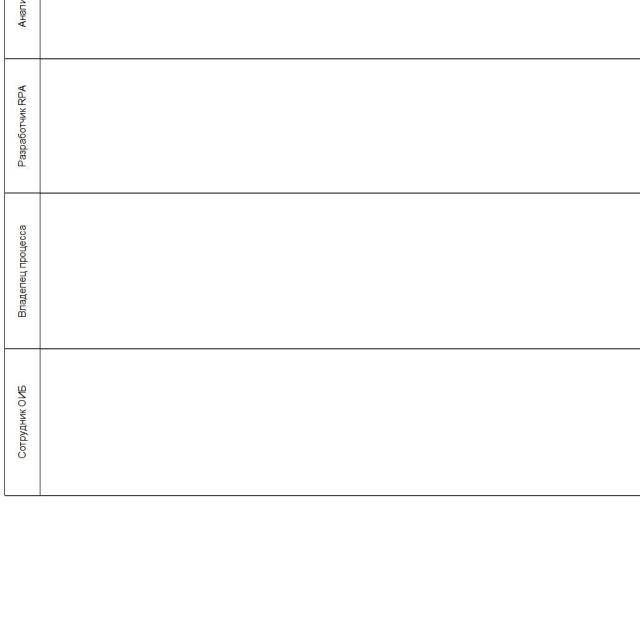text_region: (13, 219, 32, 324), (12, 82, 32, 172), (12, 378, 32, 466)
